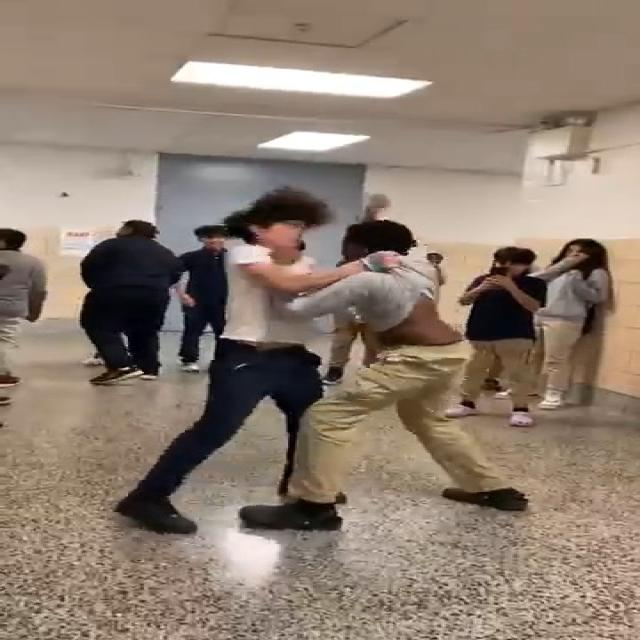fight: (118, 189, 534, 533)
